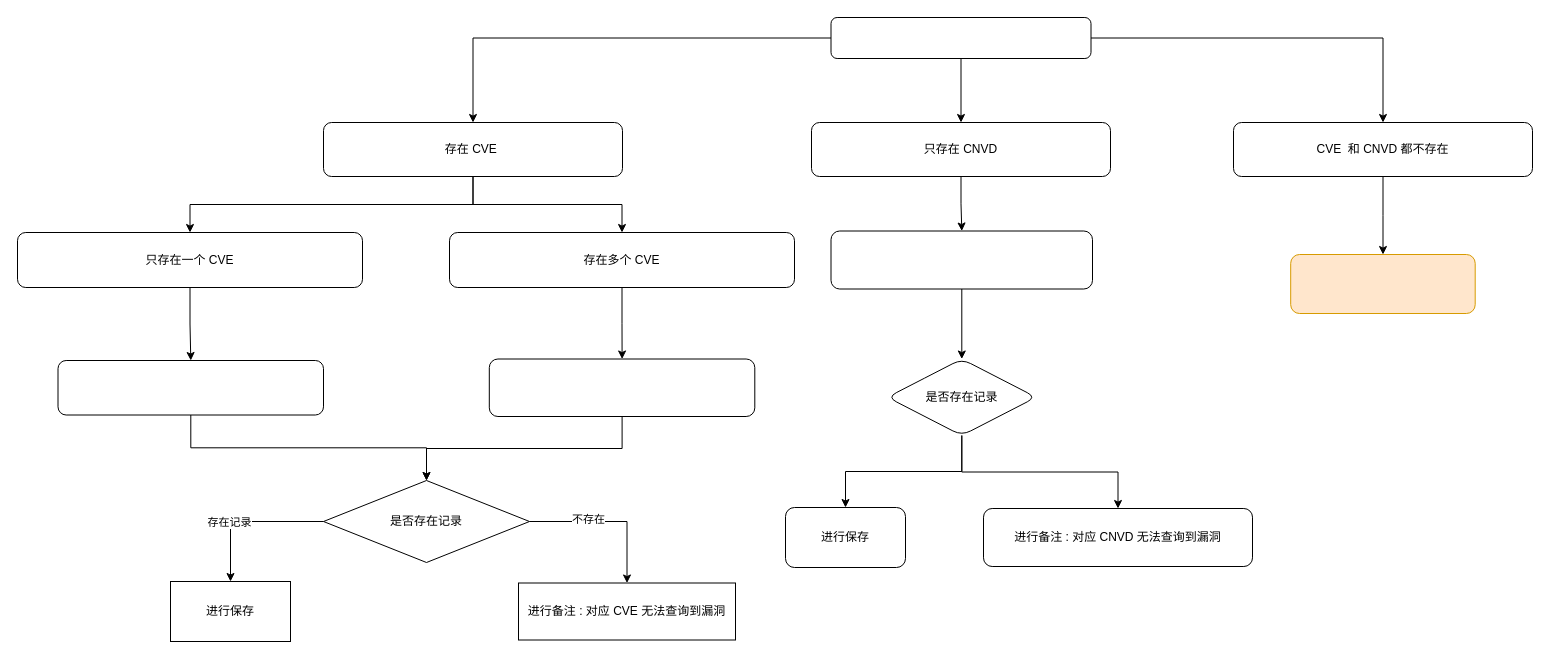
Some shapes in this 1550 by 659 pixel diagram are drawn without their labels. Each missing label, with the centre of its shape:
"总数据" belongs at [960,37].
"暂时没有想到处理思路" belongs at [1382,284].
"直接搜索" belongs at [190,387].
"逐个查询" belongs at [621,387].
"逐个查询," belongs at [961,259].
